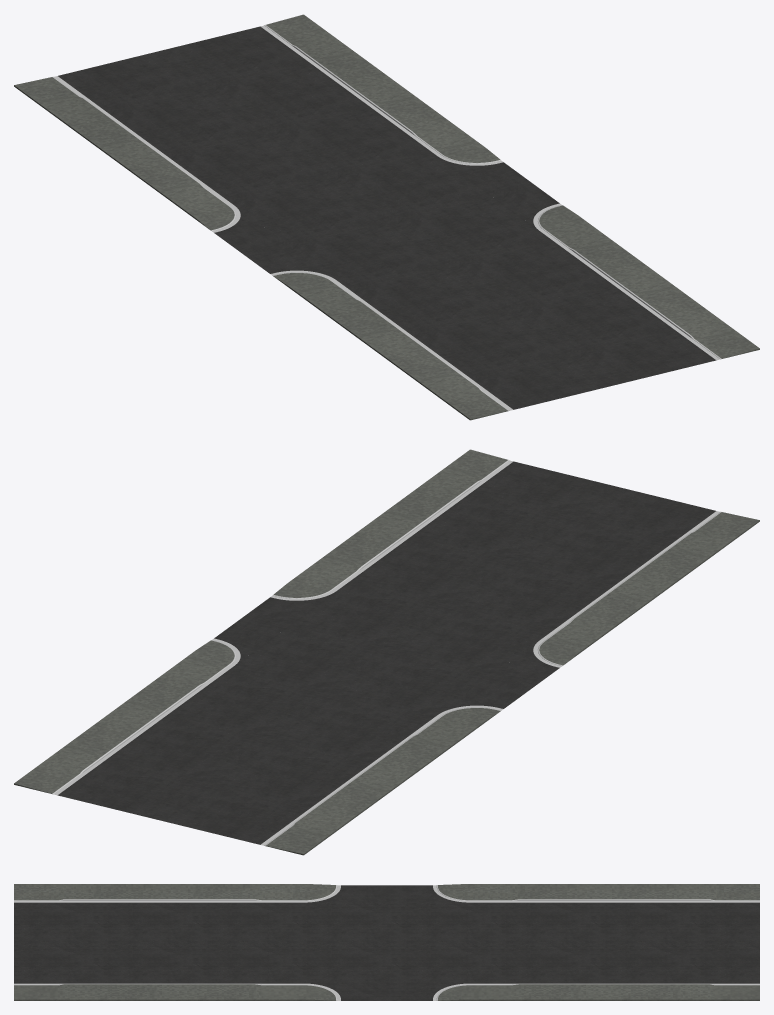
File: jcRoad22mB.fbx
The picture shows the model from 3 angles, top to bottom: view 1: azimuth 30°, elevation 25°; view 2: azimuth 150°, elevation 25°; view 3: azimuth 270°, elevation 25°; orthographic projection. The views are drawn at different scales.
Visible parts, largest first — view 1: jcRoad22mB; view 2: jcRoad22mB; view 3: jcRoad22mB.
Boxes of the visible parts, x1=… form: jcRoad22mB: x1=14, y1=14, x2=759, y2=420; jcRoad22mB: x1=14, y1=449, x2=759, y2=855; jcRoad22mB: x1=14, y1=884, x2=759, y2=1000.
Bounding box in the file's own units: 2200 × 10 × 6000.
